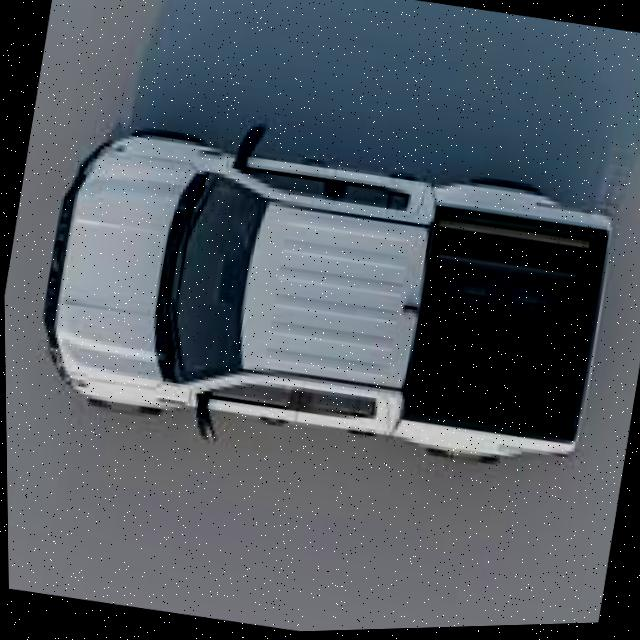truck: (31, 113, 622, 504)
